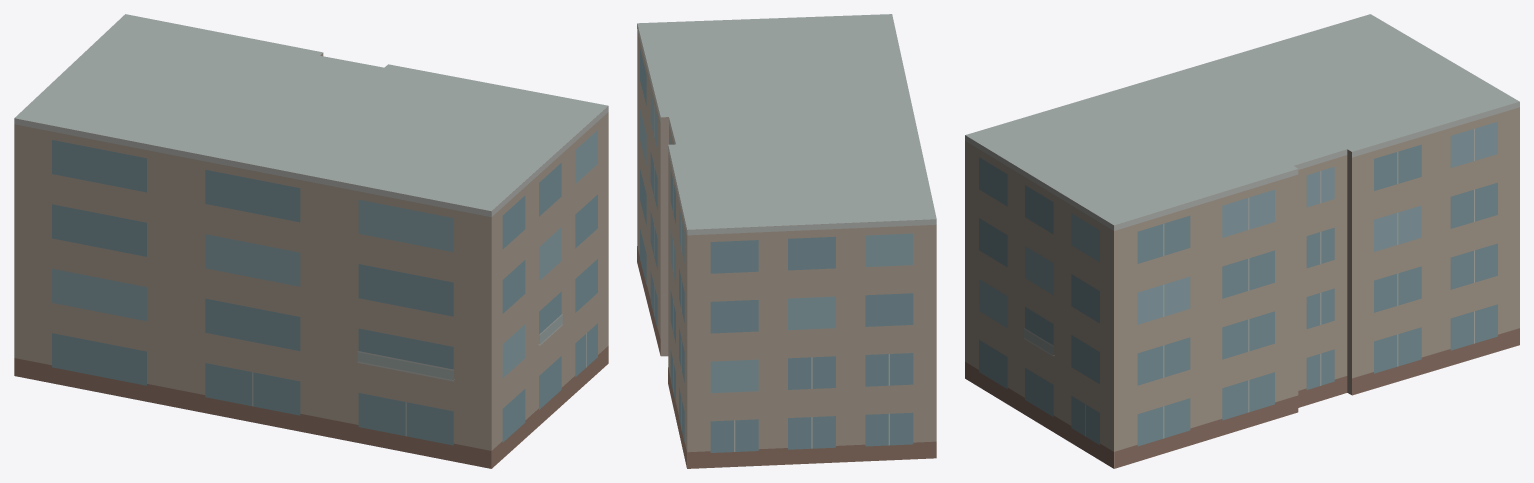
Rendered from survey-upis-32584384.glb.
3 renders of one model, left to right at view 1: azimuth 30°, elevation 25°; view 2: azimuth 150°, elevation 25°; view 3: azimuth 270°, elevation 25°, orthographic. The views are drawn at different scales.
Visible parts, largest first — view 1: survey-upis-32584384.tmp; view 2: survey-upis-32584384.tmp; view 3: survey-upis-32584384.tmp.
Boxes of the visible parts, left/top/right/bottom form: survey-upis-32584384.tmp: left=14, top=14, right=608, bottom=468; survey-upis-32584384.tmp: left=637, top=14, right=936, bottom=468; survey-upis-32584384.tmp: left=965, top=14, right=1519, bottom=468.
Bounding box in the file's own units: 19.57 × 10.5 × 21.69.
